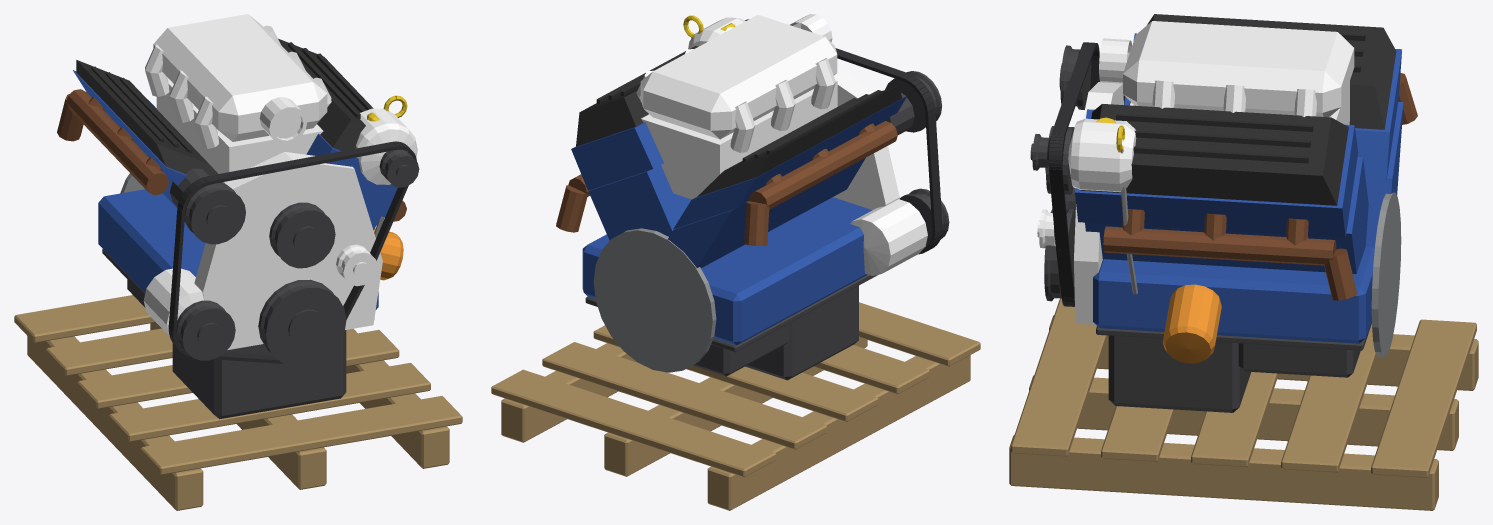
Rendered from item-engine.glb.
The picture shows the model from 3 angles, left to right: view 1: azimuth 30°, elevation 25°; view 2: azimuth 150°, elevation 25°; view 3: azimuth 270°, elevation 25°; orthographic projection. The views are drawn at different scales.
Parts seen in each view (by area): view 1: engine; view 2: engine; view 3: engine.
Part boxes in pixels (left/top/right/bottom): engine: left=14, top=14, right=462, bottom=510; engine: left=491, top=14, right=980, bottom=510; engine: left=1009, top=14, right=1478, bottom=510.
Bounding box in the file's own units: 0.7394 × 0.773 × 0.852.
